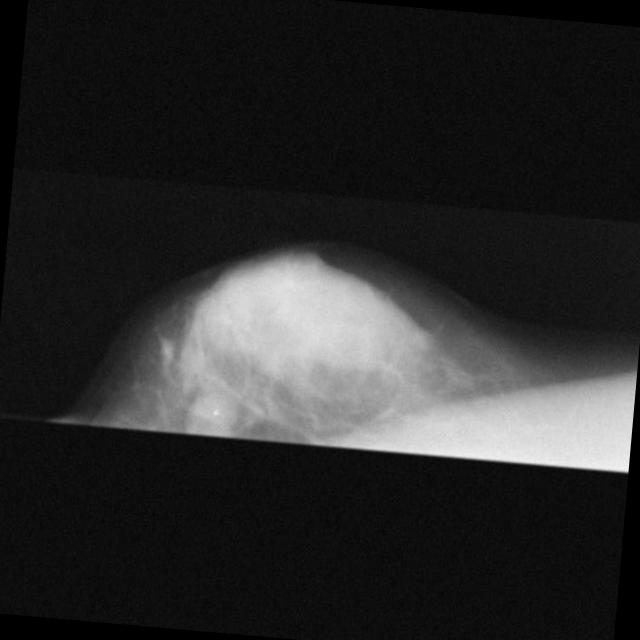CIRC: (180, 389, 242, 452)
